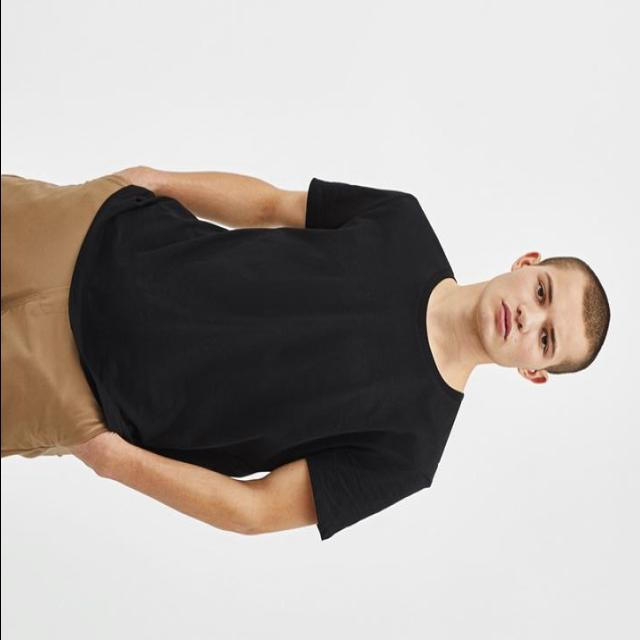shoulder: (373, 186, 451, 496)
